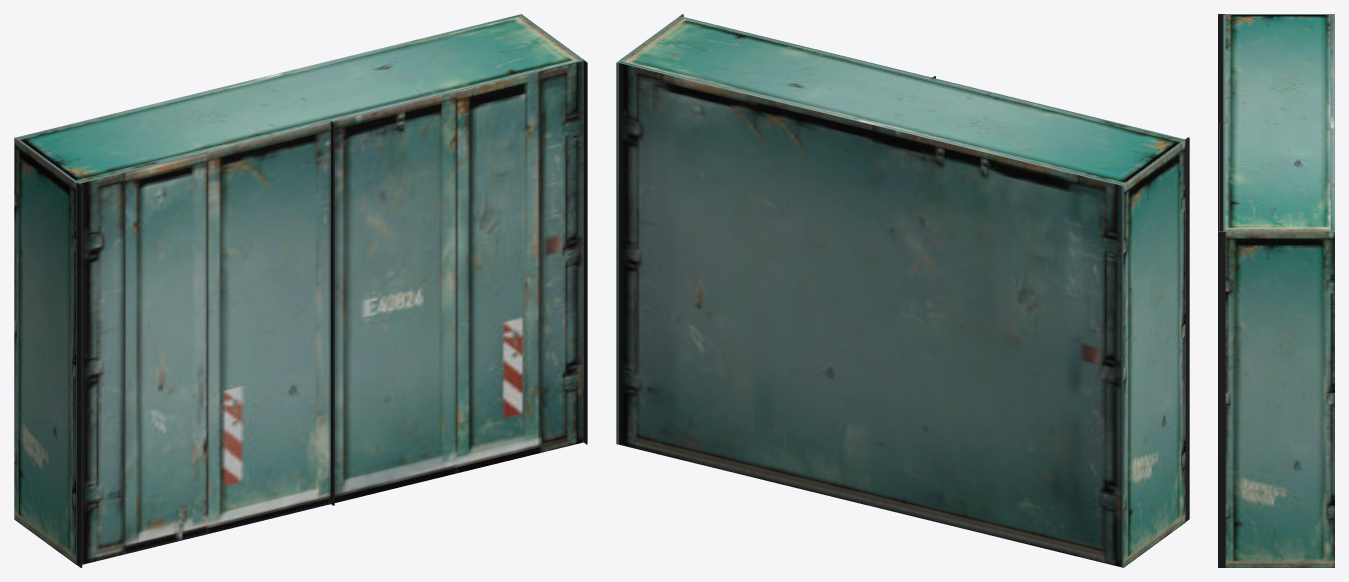
Rendered from B075GWYJRC.glb.
The picture shows the model from 3 angles, left to right: view 1: azimuth 30°, elevation 25°; view 2: azimuth 150°, elevation 25°; view 3: azimuth 270°, elevation 25°; orthographic projection. The views are drawn at different scales.
Parts seen in each view (by area): view 1: B075GWYJRC; view 2: B075GWYJRC; view 3: B075GWYJRC.
Part boxes in pixels (x1,y1,x2,y2): B075GWYJRC: [14, 14, 587, 567]; B075GWYJRC: [616, 14, 1189, 567]; B075GWYJRC: [1218, 14, 1334, 567].
Bounding box in the file's own units: 3 × 2.16 × 0.68.
1 material, 1 textured.
